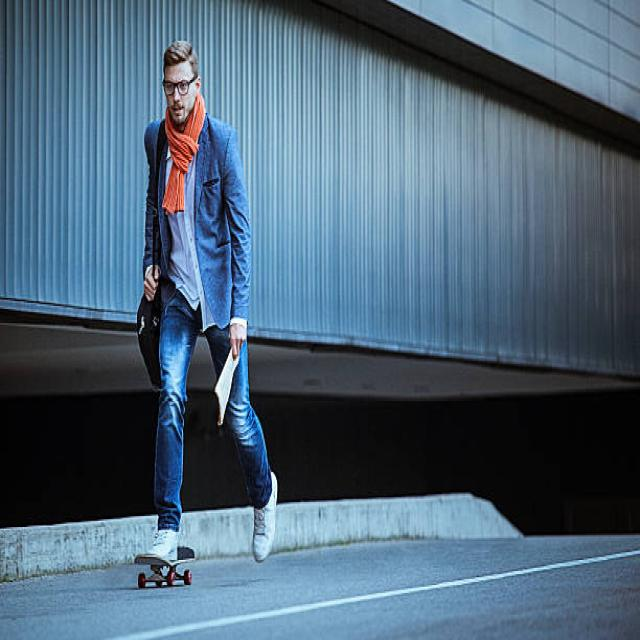Real human 2: (130, 33, 306, 592)
